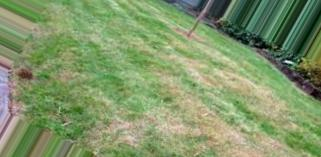patch: (183, 114, 231, 143), (234, 77, 272, 103), (111, 121, 163, 138), (174, 90, 203, 109), (193, 66, 215, 83)
